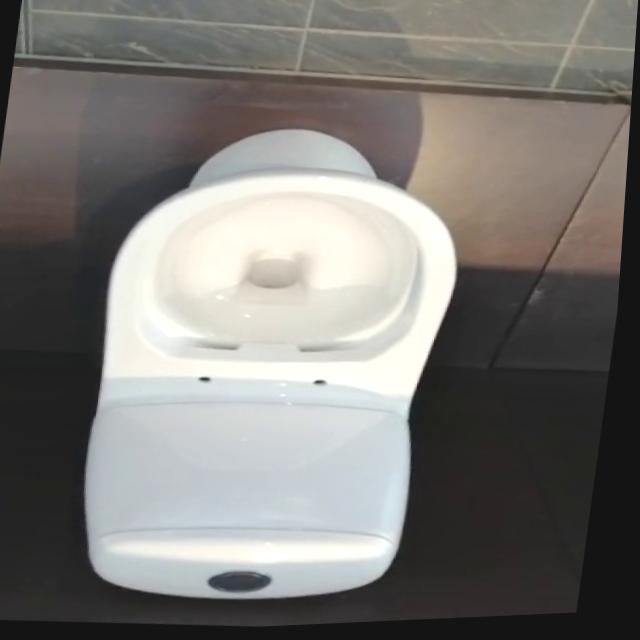toilet: (73, 113, 482, 621)
